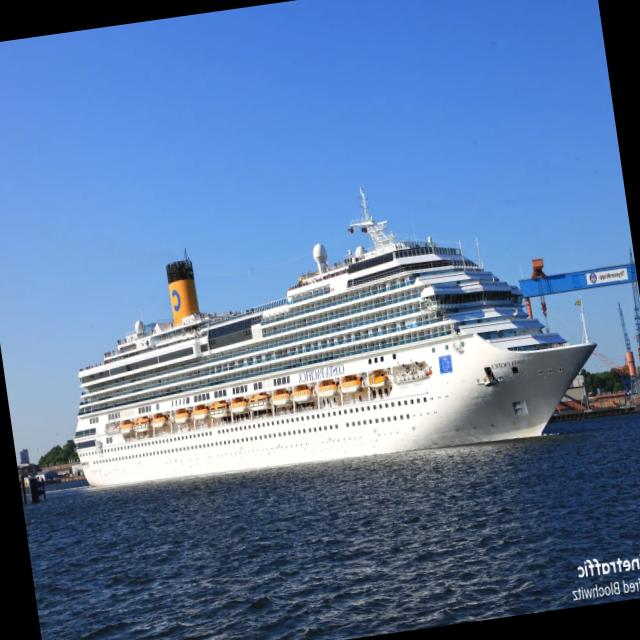Cruise: (75, 192, 596, 486)
